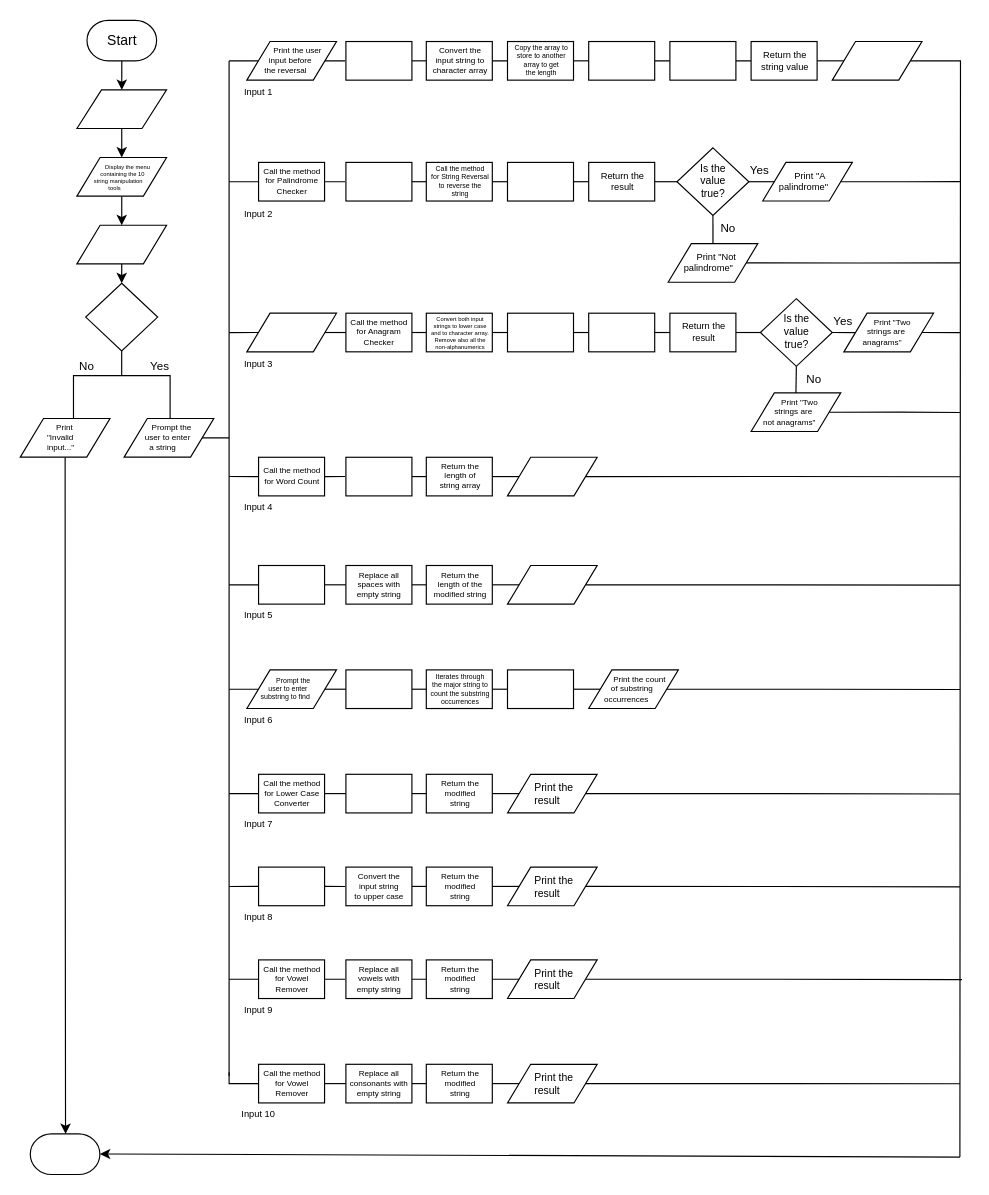
This 989x1195 diagram has some shape labels left out. Each missing label, with the centre of its shape:
Call the method for Character Count: pixel 291 584
Call the method for String Reversal: pixel 378 60
Call the method for Substring Finder: pixel 378 689
Call the method for Upper Case Converter: pixel 291 886
Check if both arrays are equal: pixel 621 332
Check if the original and reversed string are equal: pixel 540 181
Convert the input string to lower case: pixel 378 793
Convert the input string to lower case and remove all non-alphanumerics: pixel 378 181
Convert the reversed array back to string: pixel 702 60
Display the program title and instructions: pixel 121 109
Is the user input between 1-10: pixel 121 316
Print the count of characters: pixel 551 584
Print the count of words: pixel 551 476
Print the result after the reversal: pixel 876 60
Prompt the user to choose a tool from 1-10: pixel 121 244
Prompt the user to enter another string: pixel 291 332
Return the count number: pixel 540 689
Reverse the array: pixel 621 60
Sort both the character arrays: pixel 540 332
Split the input string to string array: pixel 378 476
Stop: pixel 64 1153
